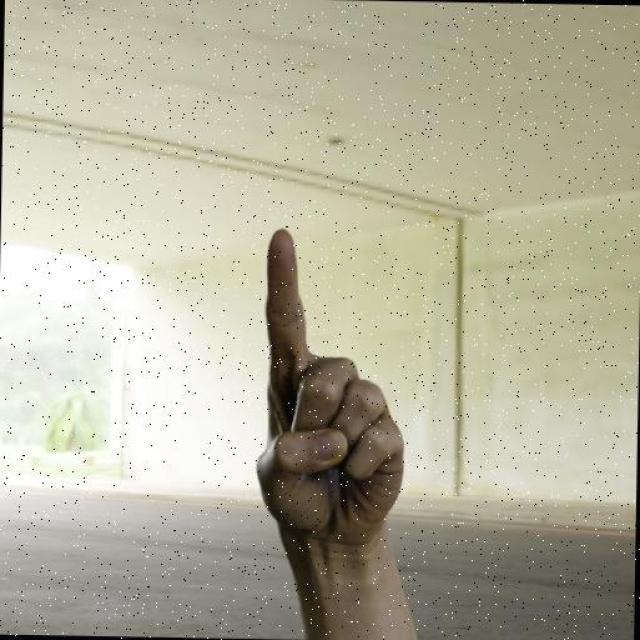Z: (238, 214, 421, 554)
